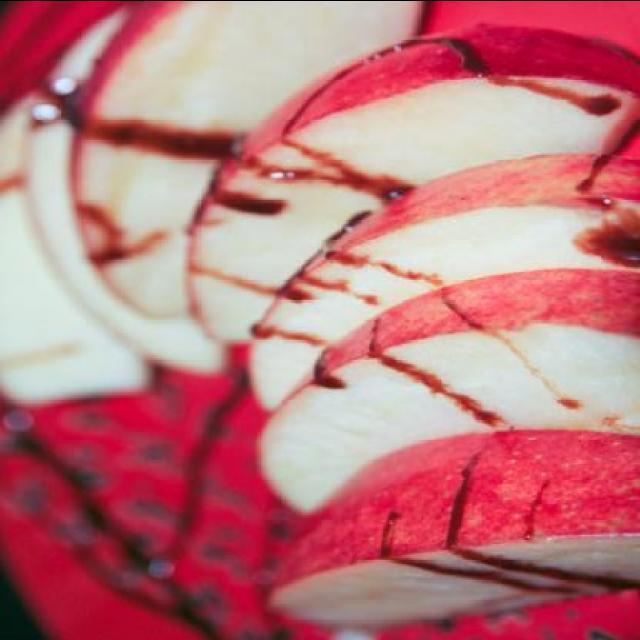Apple pie: (0, 2, 638, 524), (266, 428, 640, 634)
